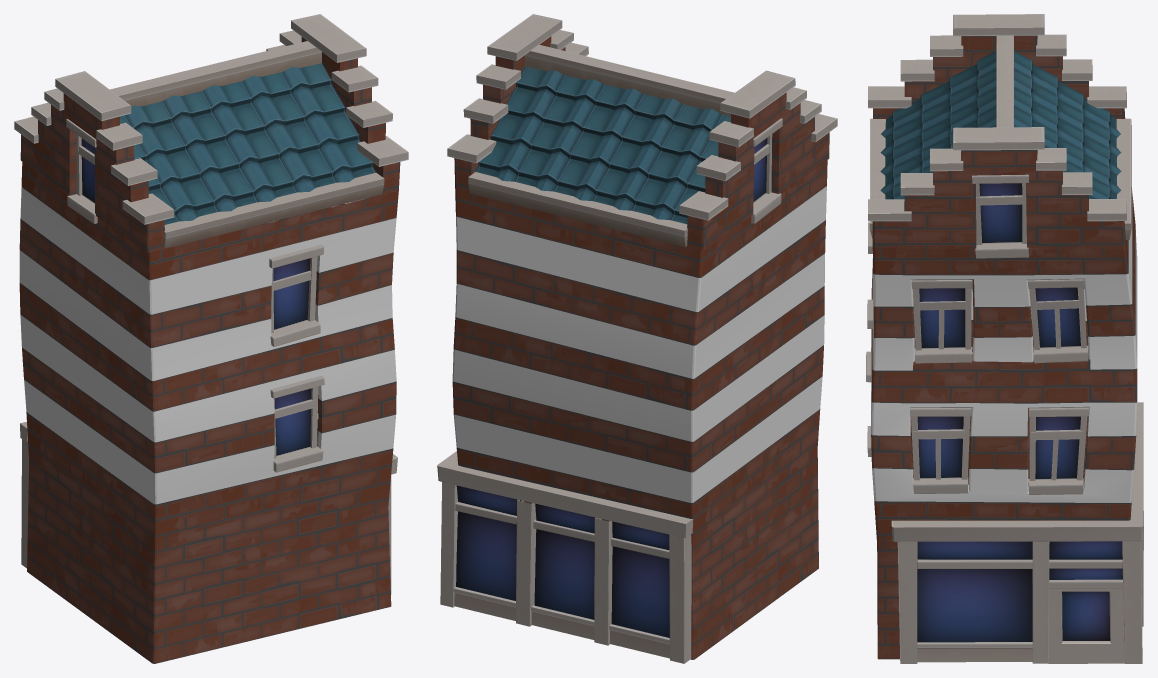
Rendered from Building03.fbx.
3 renders of one model, left to right at view 1: azimuth 30°, elevation 25°; view 2: azimuth 150°, elevation 25°; view 3: azimuth 270°, elevation 25°, orthographic.
Parts seen in each view (by area): view 1: Cube.002; view 2: Cube.002; view 3: Cube.002.
Part boxes in pixels (bbox=[...]): Cube.002: bbox=[14, 14, 408, 663]; Cube.002: bbox=[437, 14, 837, 663]; Cube.002: bbox=[866, 14, 1143, 663].
Bounding box in the file's own units: 598 × 1133 × 544.
